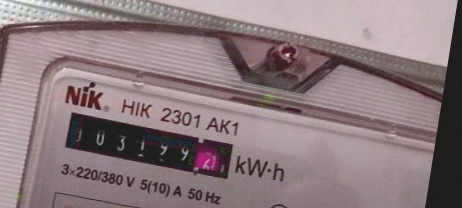0: (69, 121, 84, 143), (92, 124, 107, 146)
1: (136, 131, 148, 152)
3: (113, 131, 127, 151)
6: (200, 154, 213, 171)
9: (156, 136, 170, 157), (177, 141, 190, 161)
screen: (55, 105, 243, 187)
